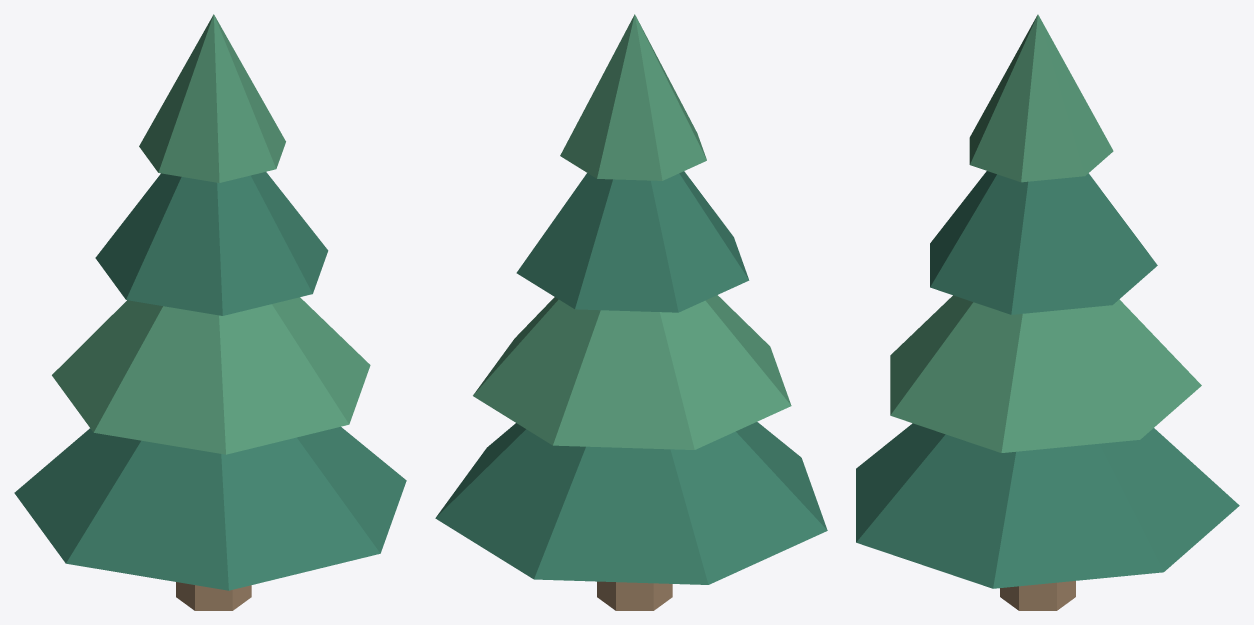
File: pine.glb
3 renders of one model, left to right at view 1: azimuth 30°, elevation 25°; view 2: azimuth 150°, elevation 25°; view 3: azimuth 270°, elevation 25°, orthographic.
Parts seen in each view (by area): view 1: pine; view 2: pine; view 3: pine.
Boxes of the visible parts, x1,y1,x2,y2 form: pine: (14, 14, 406, 610); pine: (435, 14, 827, 610); pine: (856, 14, 1239, 610).
Size of the model in its own units: 3.12 by 5.1 by 3.04.
